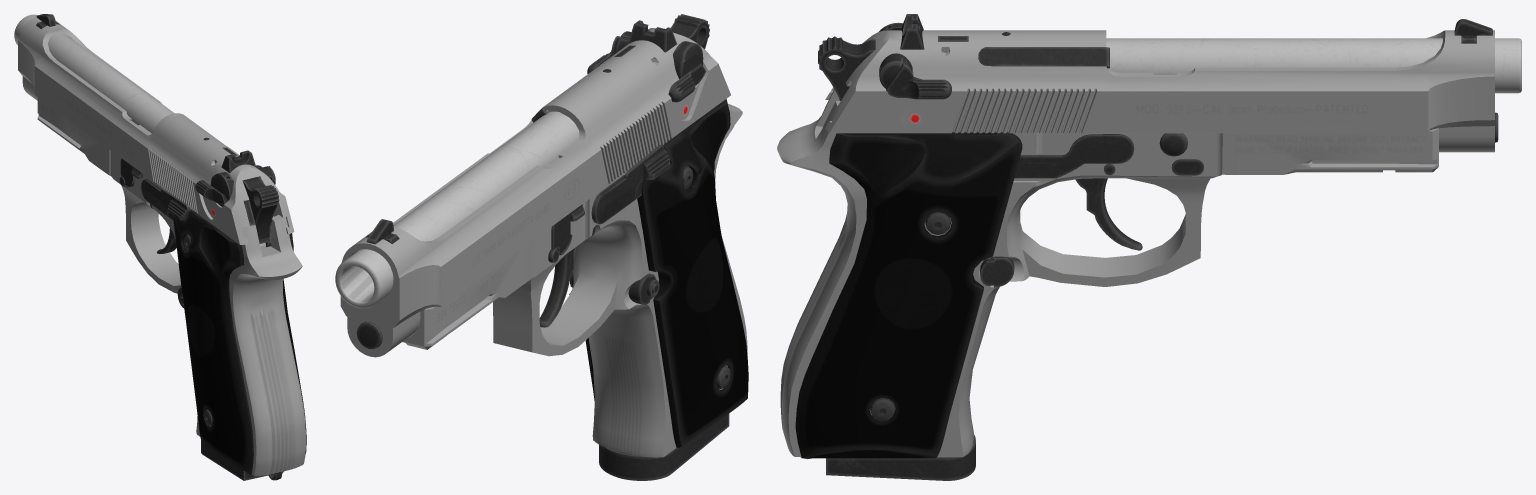
The model's file is dual_pistol.glb.
The picture shows the model from 3 angles, left to right: view 1: azimuth 30°, elevation 25°; view 2: azimuth 150°, elevation 25°; view 3: azimuth 270°, elevation 25°; orthographic projection. The views are drawn at different scales.
Visible parts, largest first — view 1: body.003, receiver.003, Circle.008, Cylinder.054, Hammer.003, Cube.035, Cylinder.058, Magazine.001, Cube.031, Circle.007, Cube.036; view 2: receiver.003, body.003, Circle.008, Cylinder.054, Magazine.001, Cube.035, Cylinder.058, Plane.003, Hammer.003, Cube.031, Cube.036, Cylinder.055 (+2 smaller); view 3: receiver.003, Circle.007, body.003, Cylinder.054, Magazine.001, Cube.039, Cube.033, Hammer.003, Plane.003, Cylinder.059, Cylinder.067.
Boxes of the visible parts, box(x1,y1,x2,y2) form: body.003: box(37, 97, 305, 476); receiver.003: box(18, 17, 294, 244); Circle.008: box(173, 210, 253, 474); Cylinder.054: box(14, 14, 173, 133); Hammer.003: box(242, 177, 279, 248); Cube.035: box(141, 178, 190, 220); Cylinder.058: box(195, 172, 233, 206); Magazine.001: box(201, 440, 292, 480); Cube.031: box(221, 150, 255, 172); Circle.007: box(283, 233, 306, 453); Cube.036: box(120, 158, 142, 187); receiver.003: box(340, 28, 730, 357); body.003: box(402, 104, 747, 457); Circle.008: box(637, 99, 748, 447); Cylinder.054: box(335, 111, 579, 308); Magazine.001: box(599, 413, 729, 480); Cube.035: box(591, 144, 670, 224); Cylinder.058: box(668, 41, 706, 102); Plane.003: box(539, 248, 574, 327); Hammer.003: box(671, 14, 709, 49); Cube.031: box(628, 20, 676, 52); Cube.036: box(551, 204, 584, 255); Cylinder.055: box(356, 321, 382, 348); receiver.003: box(825, 30, 1494, 152); Circle.007: box(795, 132, 1022, 458); body.003: box(777, 89, 1438, 457); Cylinder.054: box(1106, 38, 1521, 93); Magazine.001: box(826, 434, 975, 480); Cube.039: box(1014, 134, 1134, 178); Cube.033: box(978, 47, 1109, 68); Hammer.003: box(818, 36, 875, 100); Plane.003: box(1075, 178, 1142, 250); Cylinder.059: box(886, 59, 951, 99); Cylinder.067: box(980, 256, 1014, 287).
Bounding box in the file's own units: 65.44 × 223 × 339.
Materials: 1 (1 with a texture image).
